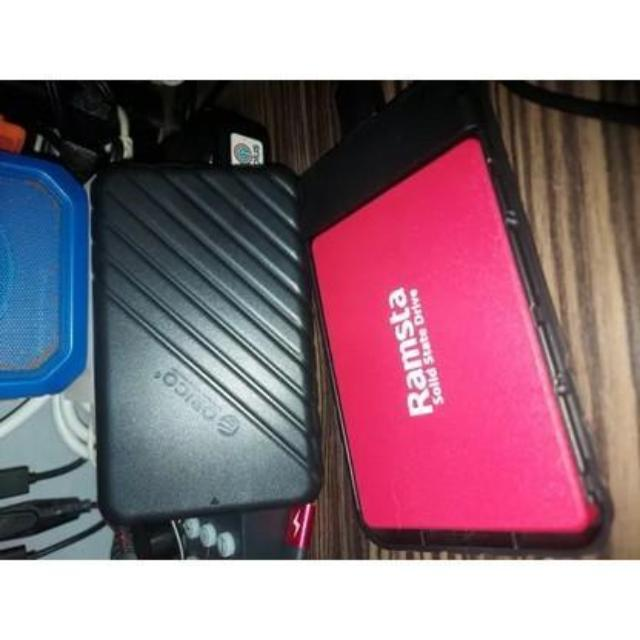DISK: (307, 138, 636, 576)
